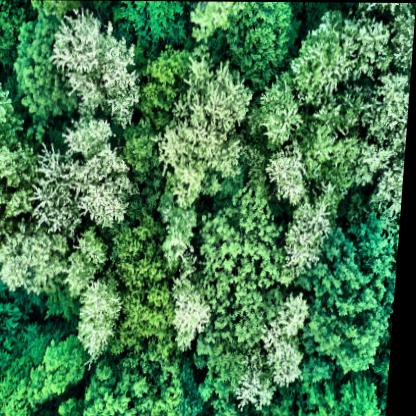tree-top: (308, 220, 402, 373), (201, 185, 289, 346), (162, 50, 251, 204), (110, 209, 181, 358), (45, 11, 139, 120), (87, 349, 215, 416), (205, 2, 299, 84), (0, 88, 38, 267), (294, 93, 367, 186), (11, 14, 73, 116), (357, 73, 412, 179), (296, 8, 352, 104), (115, 114, 170, 205), (199, 320, 256, 404), (268, 288, 316, 385), (114, 1, 196, 56), (76, 146, 133, 224), (342, 10, 399, 87), (81, 273, 128, 362), (1, 236, 70, 296), (155, 197, 206, 275), (135, 47, 191, 116), (33, 151, 80, 232), (256, 74, 310, 144), (40, 335, 99, 396), (287, 197, 336, 267), (71, 221, 109, 294), (269, 142, 310, 202), (32, 280, 83, 327), (66, 113, 113, 161), (175, 292, 221, 339), (0, 367, 42, 416), (342, 374, 389, 416), (376, 156, 407, 217), (389, 6, 416, 68), (21, 277, 65, 315), (243, 367, 279, 408), (0, 0, 20, 60), (203, 178, 235, 208), (0, 292, 10, 374)
